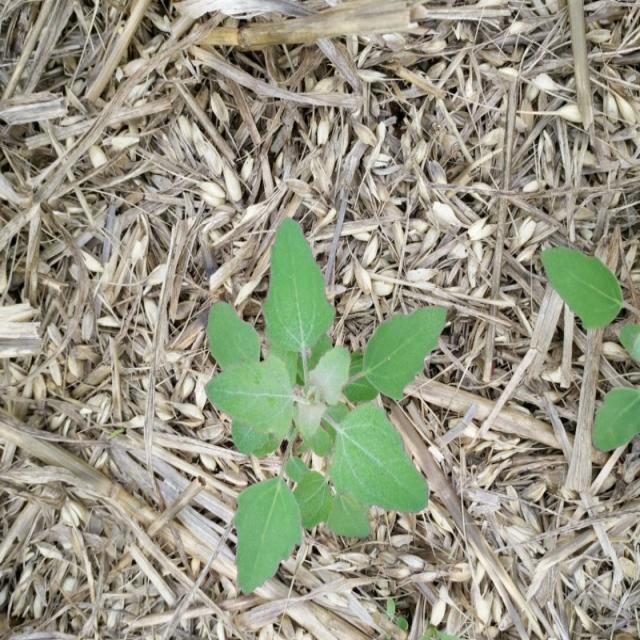ca: (205, 213, 436, 588)
